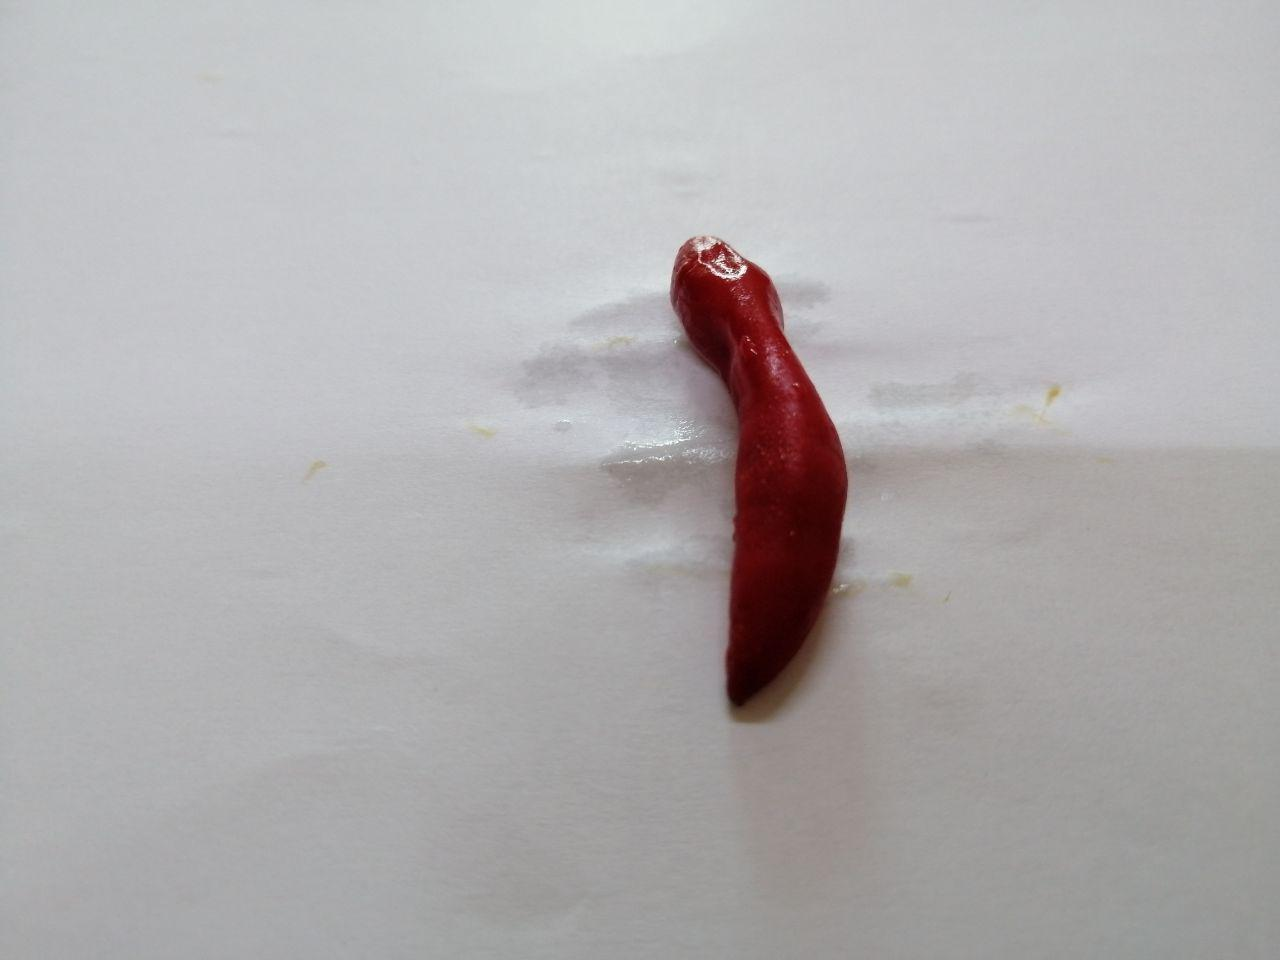lada merah: (640, 212, 884, 731)
